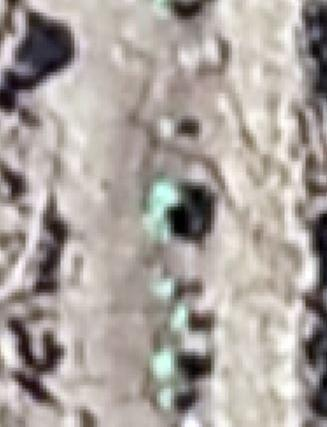cotton: (149, 206, 170, 234), (152, 179, 176, 200), (153, 352, 175, 374), (177, 305, 189, 325), (162, 280, 175, 298), (160, 392, 174, 407), (156, 1, 168, 9)
